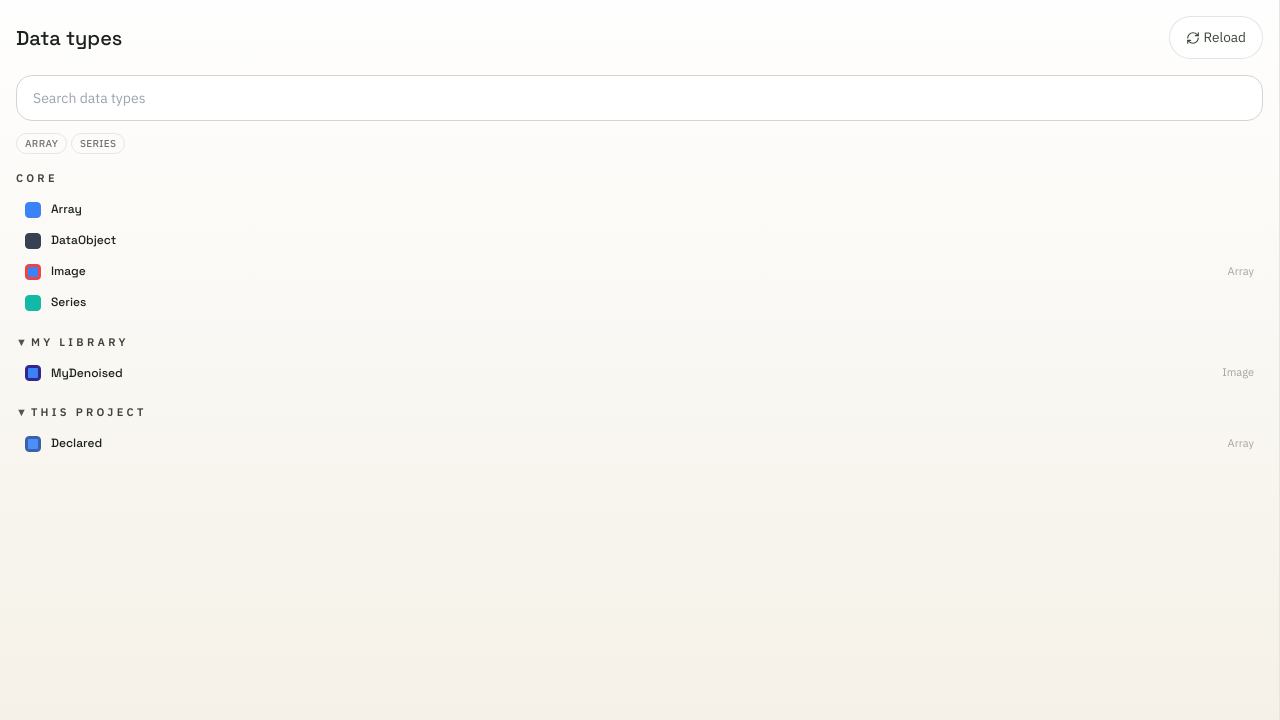
Test: Data types tab — hover popover (FR-042, FR-043, FR-056) › reports load and save separately, including a save-only asymmetry
The width and height of the screenshot is (1280, 720).
Hover over the element with test id "palette-type-row" showing "Image Array" at (640, 272), box [16,257,1263,287]
Wait 151 ms
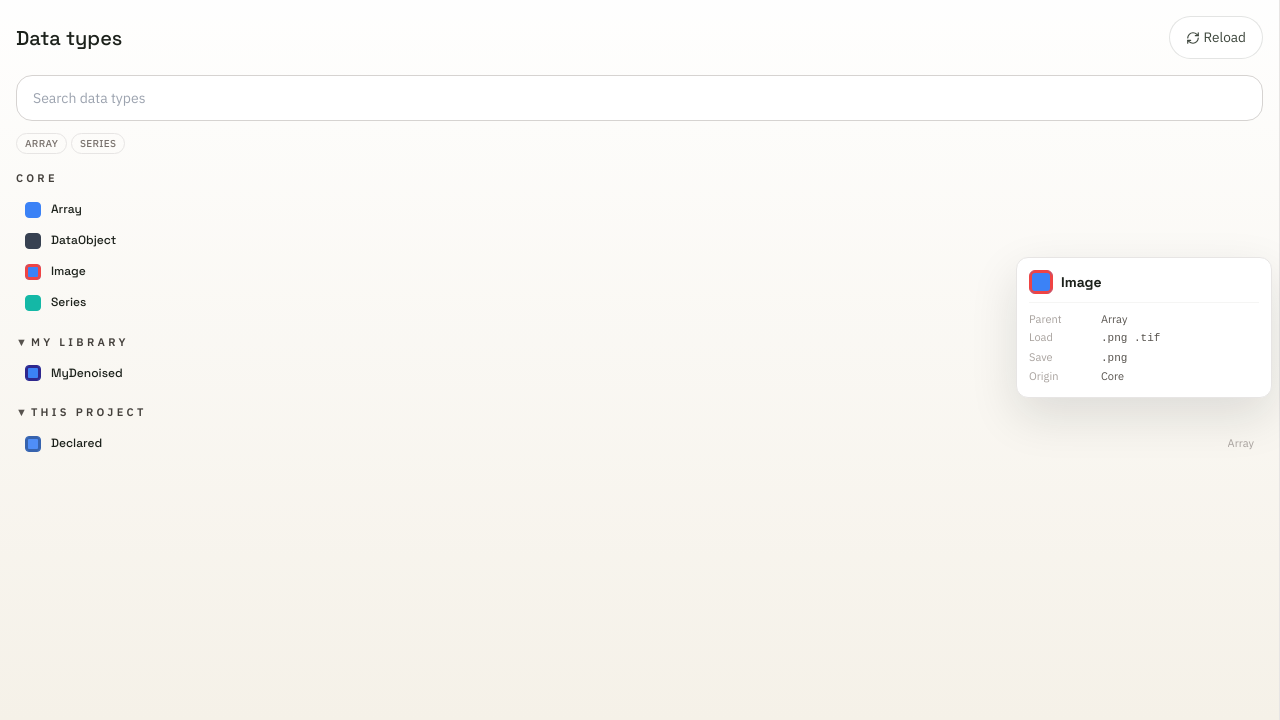
Now the text with test id "type-detail-load" reads ".png .tif", box [1101,332,1160,344]
Now the text with test id "type-detail-save" reads ".png", box [1101,352,1127,364]
Hover over the element with test id "palette-type-row" showing "Series" at (640, 303), box [16,288,1263,318]
Wait 151 ms
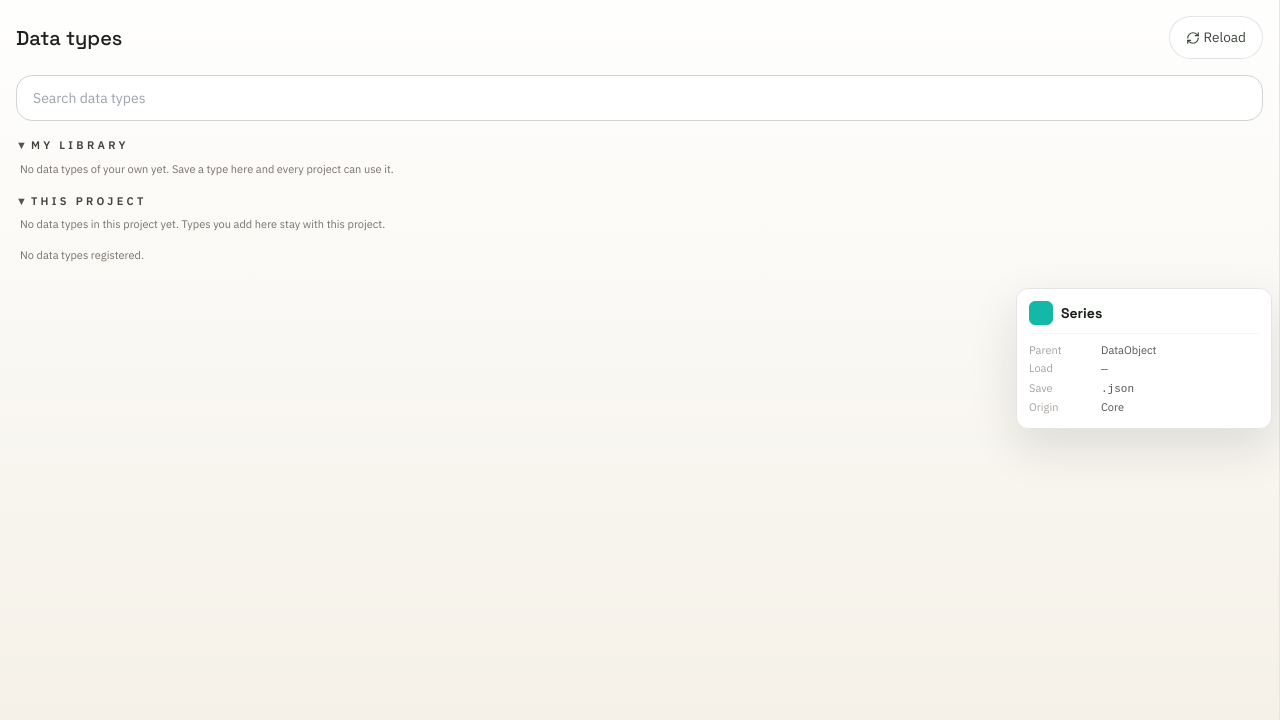
Now the text with test id "type-detail-load" reads "—", box [1101,363,1108,375]
Now the text with test id "type-detail-save" reads ".json", box [1101,383,1134,395]
